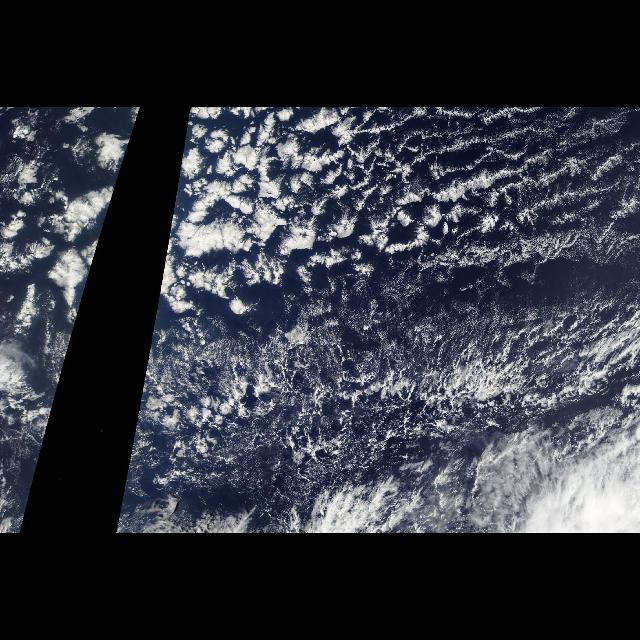Flower: (156, 109, 418, 314), (2, 112, 140, 314), (157, 364, 255, 484)
Gravel: (143, 326, 612, 474), (454, 137, 638, 319)
